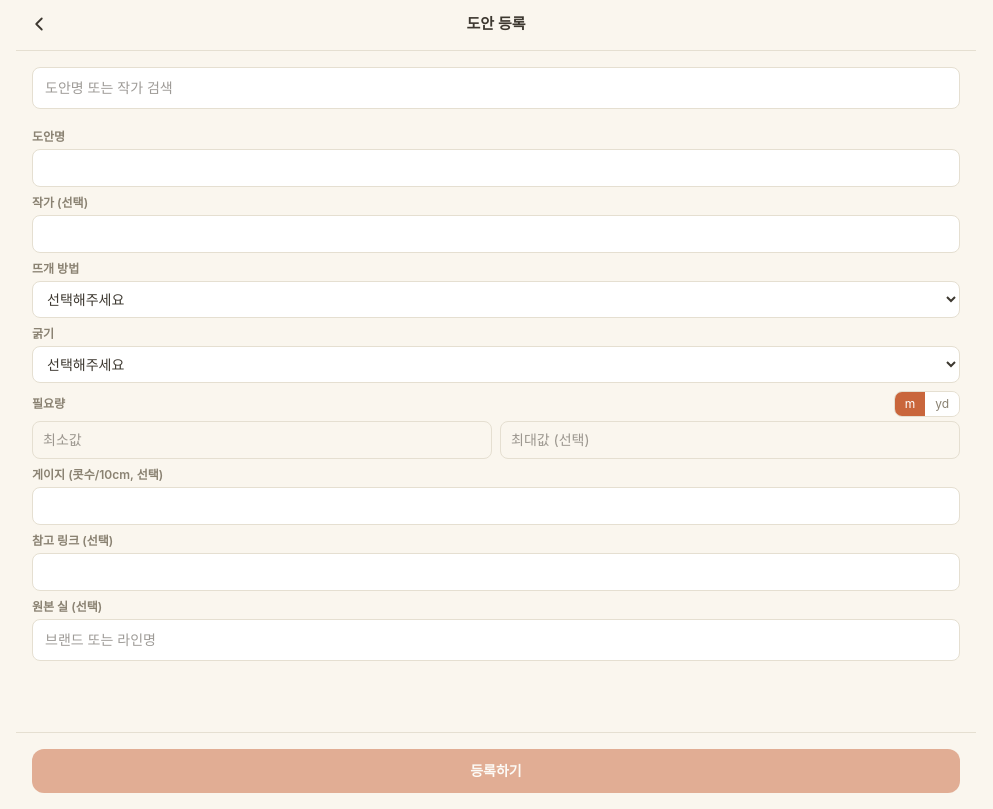
Test case: PatternRegisterPage › 등록이 실패하면 서버 사유를 토스트로 보여주고 화면에 남는다
The width and height of the screenshot is (993, 809).
Expected: the text "도안명" is shown, 32,128 -> 65,144
Type "래글런 스웨터" into the field below "도안명" at (496, 168), box 32,148 -> 960,186
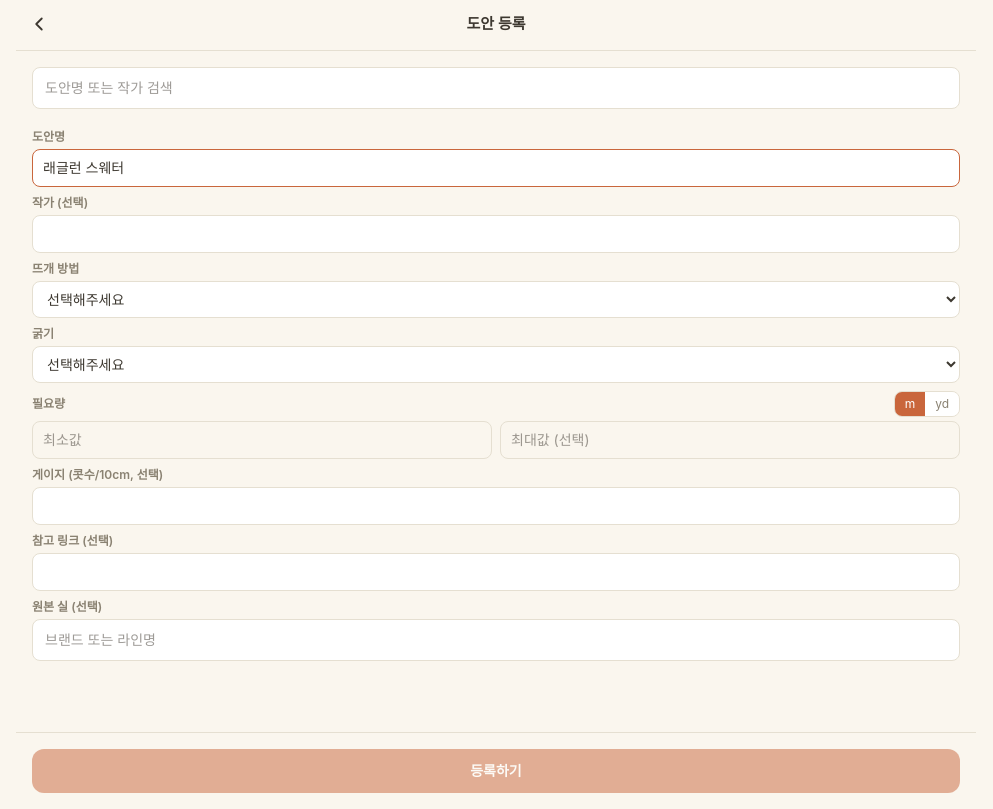
Select "대바늘" in the dropdown below "뜨개 방법" at (496, 299), box 32,280 -> 960,318
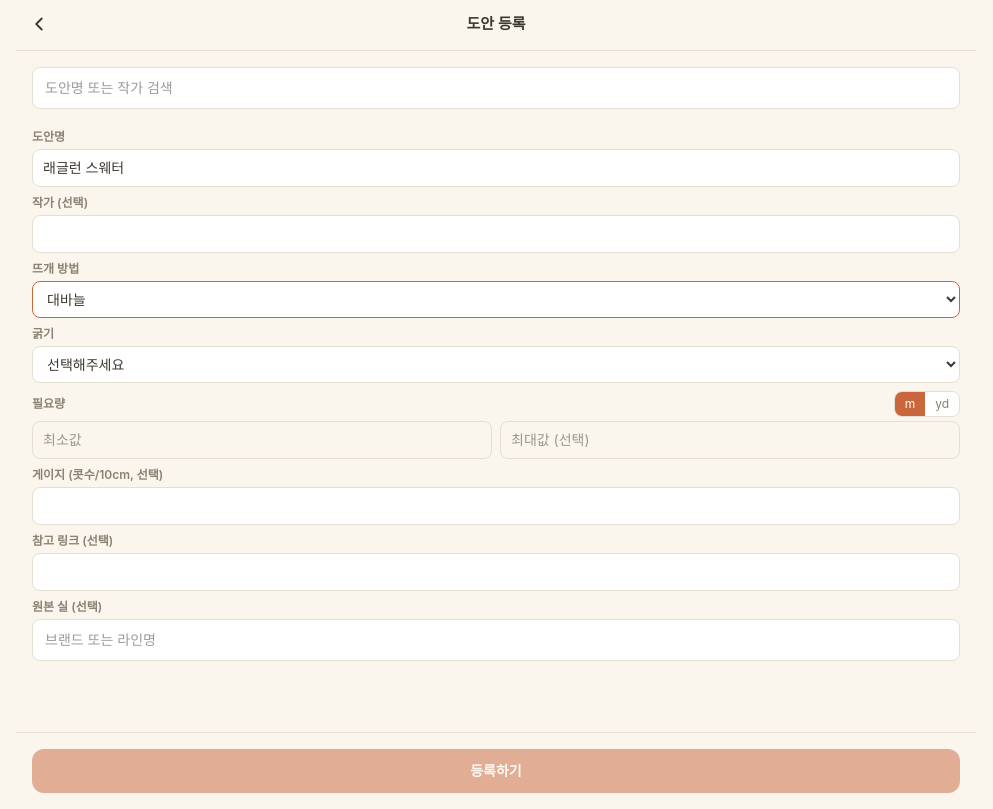
Select "워스티드" in the dropdown below "굵기" at (496, 364), box 32,346 -> 960,382
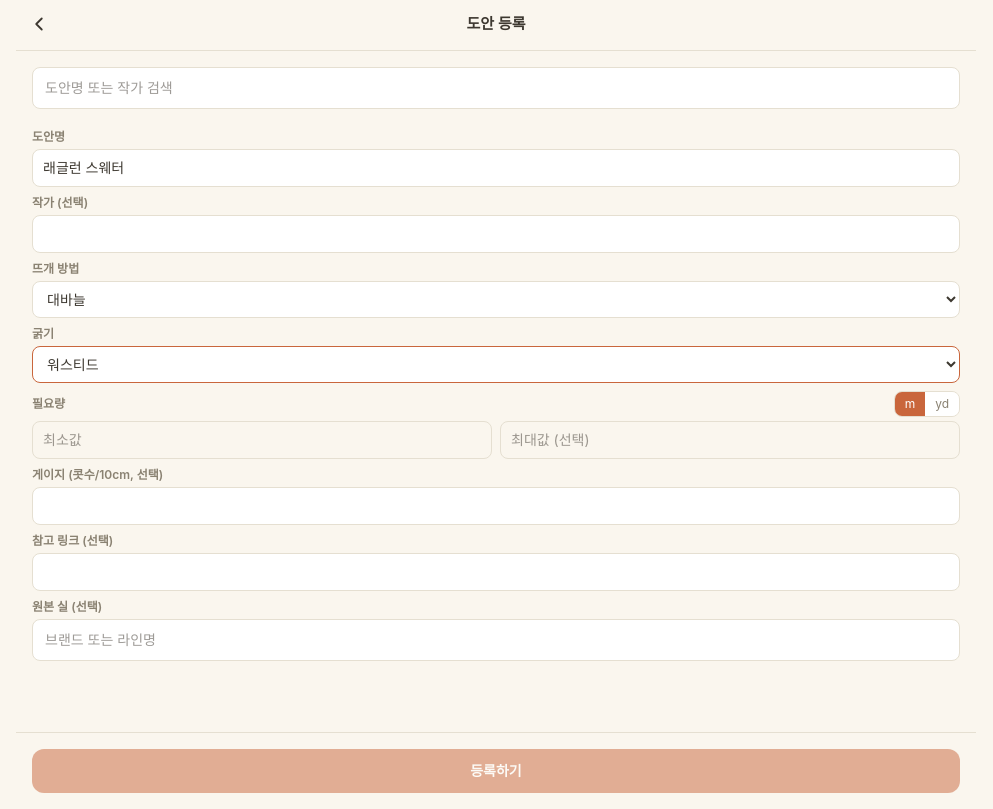
Type "800" into the number field with placeholder "최소값" at (262, 440), box 32,420 -> 492,458
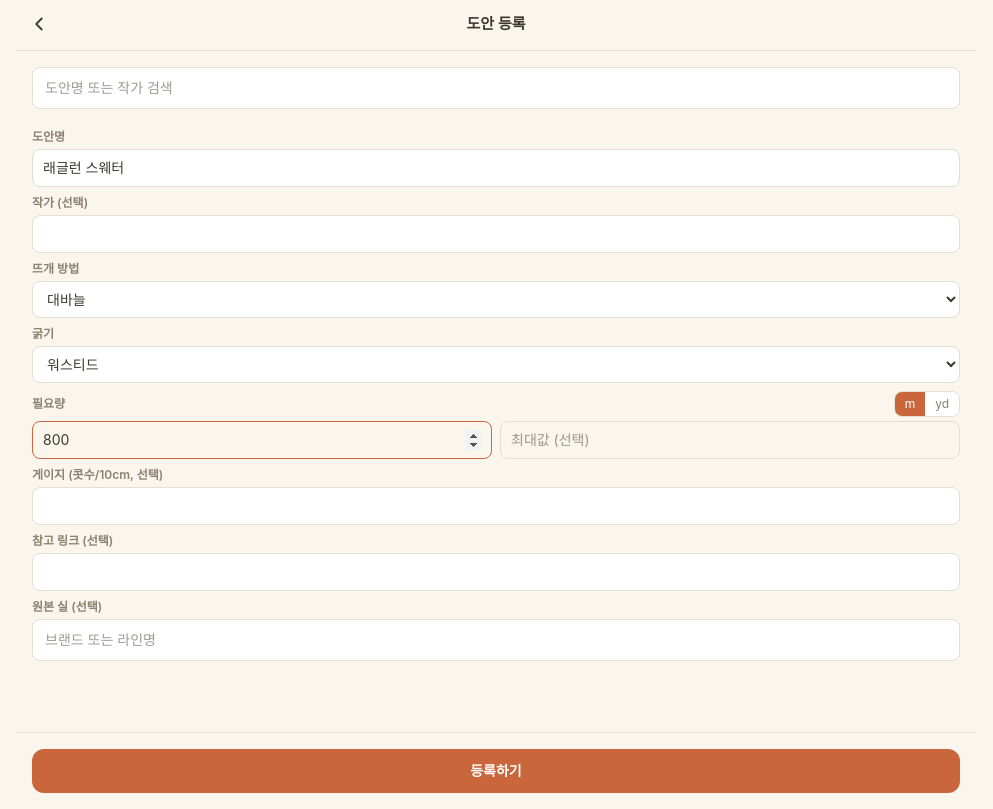
Click the button "등록하기" at (496, 771), box 32,749 -> 960,793
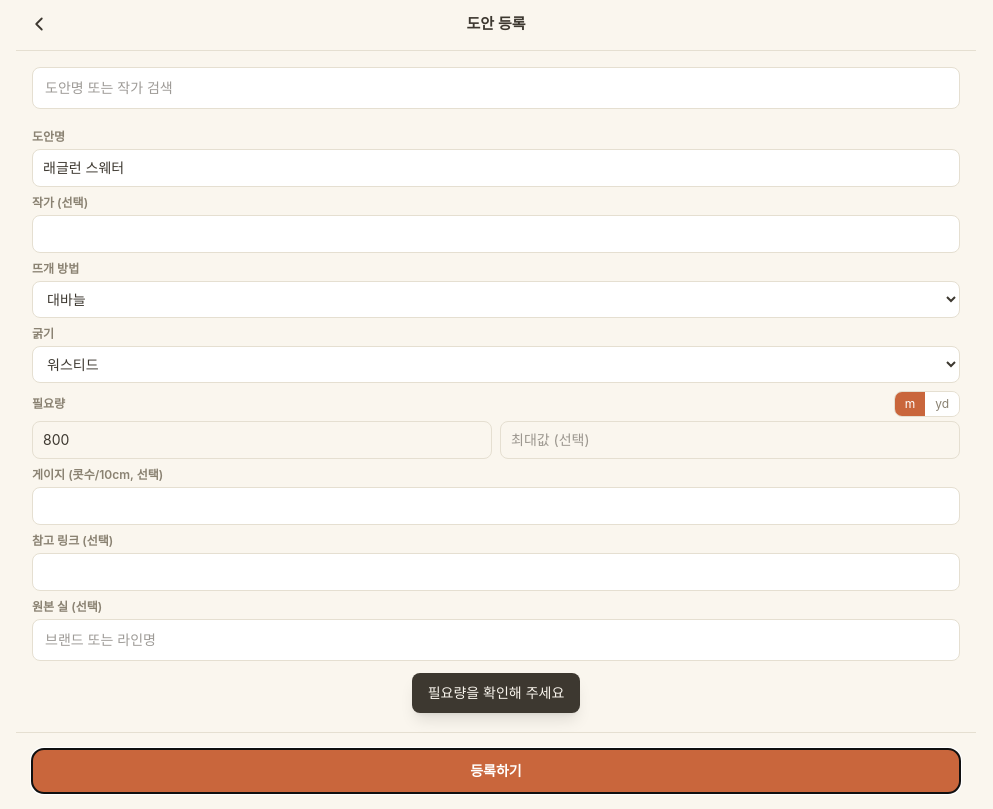
Now the button "등록하기" is enabled, box 32,749 -> 960,793
Now the message reads "필요량을 확인해 주세요", box 428,684 -> 564,701
